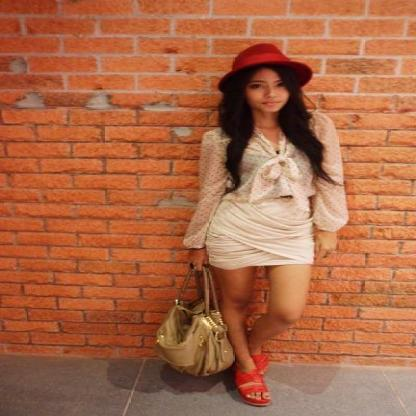bag: (148, 296, 233, 376)
dress: (183, 109, 348, 269)
hat: (226, 43, 304, 88)
shoe: (227, 358, 269, 406)
